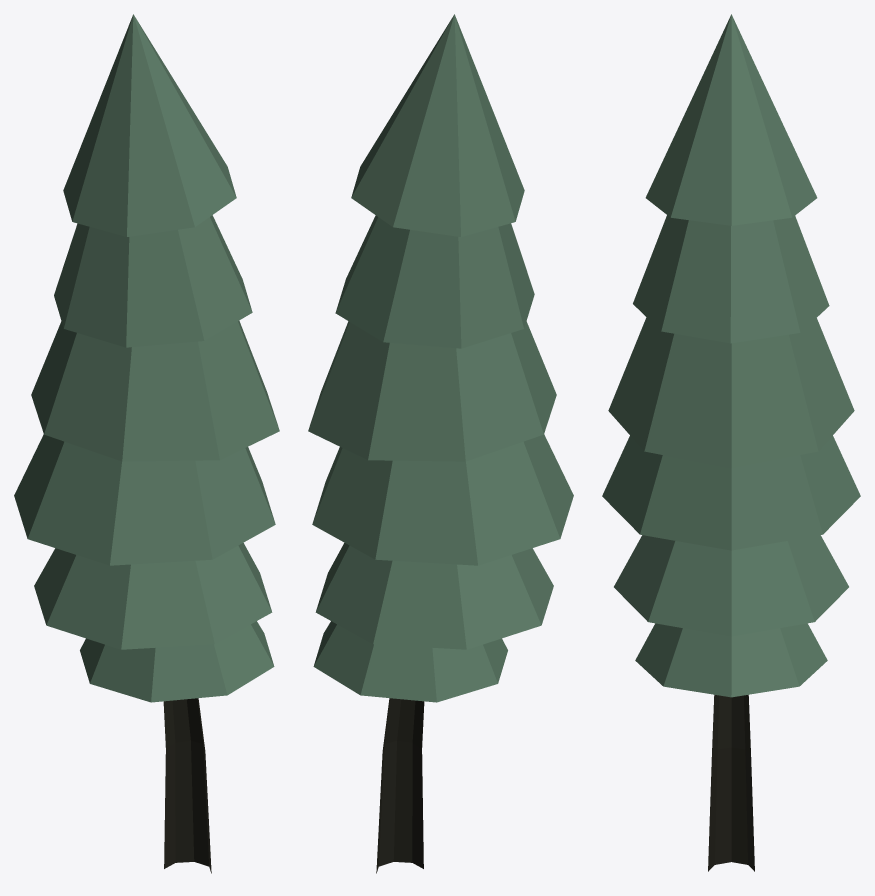
Rendered from Tree1.fbx.
The picture shows the model from 3 angles, left to right: view 1: azimuth 30°, elevation 25°; view 2: azimuth 150°, elevation 25°; view 3: azimuth 270°, elevation 25°; orthographic projection. The views are drawn at different scales.
Visible parts, largest first — view 1: Tree1; view 2: Tree1; view 3: Tree1.
Boxes of the visible parts, x1,y1,x2,y2 form: Tree1: (14, 14, 279, 873); Tree1: (308, 14, 573, 873); Tree1: (602, 14, 860, 871).
Size of the model in its own units: 56.84 by 198 by 55.71.
